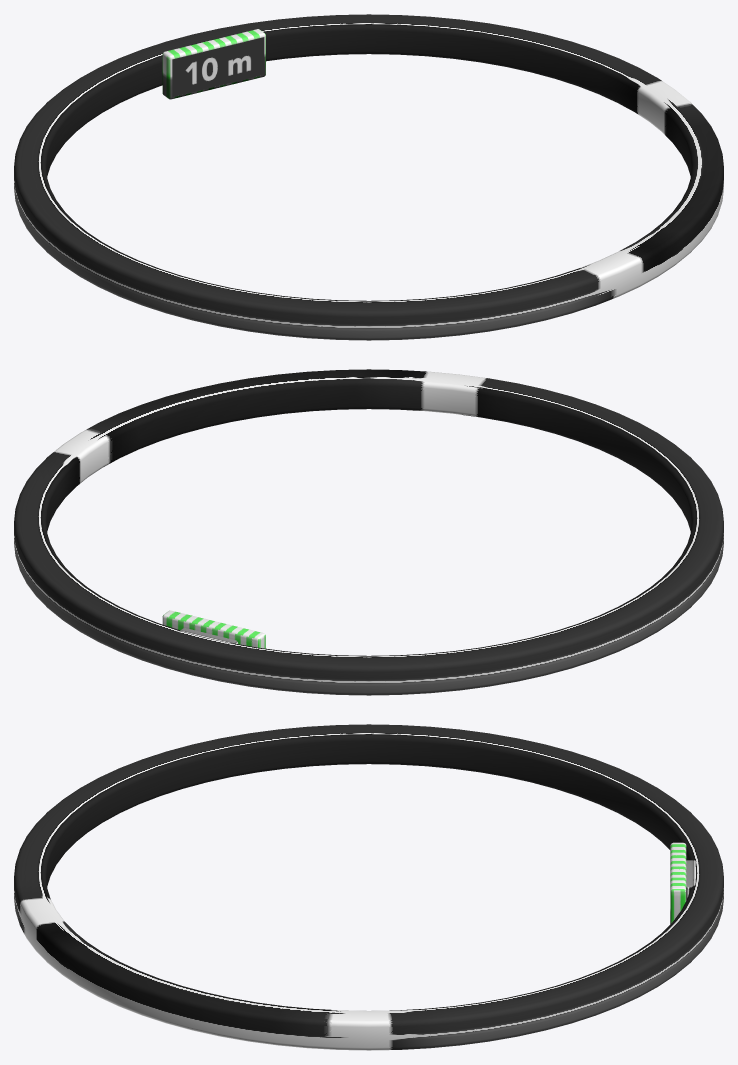
File: scalering_source_10m_baked.dae
3 renders of one model, top to bottom at view 1: azimuth 30°, elevation 25°; view 2: azimuth 150°, elevation 25°; view 3: azimuth 270°, elevation 25°, orthographic.
Visible parts, largest first — view 1: scalering, sizescreen, screen; view 2: scalering, screen; view 3: scalering, screen.
Part boxes in pixels (x1,y1,x2,y2): scalering: [14, 14, 723, 340]; sizescreen: [172, 37, 264, 97]; screen: [162, 29, 265, 99]; scalering: [14, 369, 723, 695]; screen: [162, 610, 265, 648]; scalering: [14, 724, 723, 1050]; screen: [670, 842, 686, 923].
Bounding box in the file's own units: 22 × 1.5 × 22.
4 materials, 4 textured.
